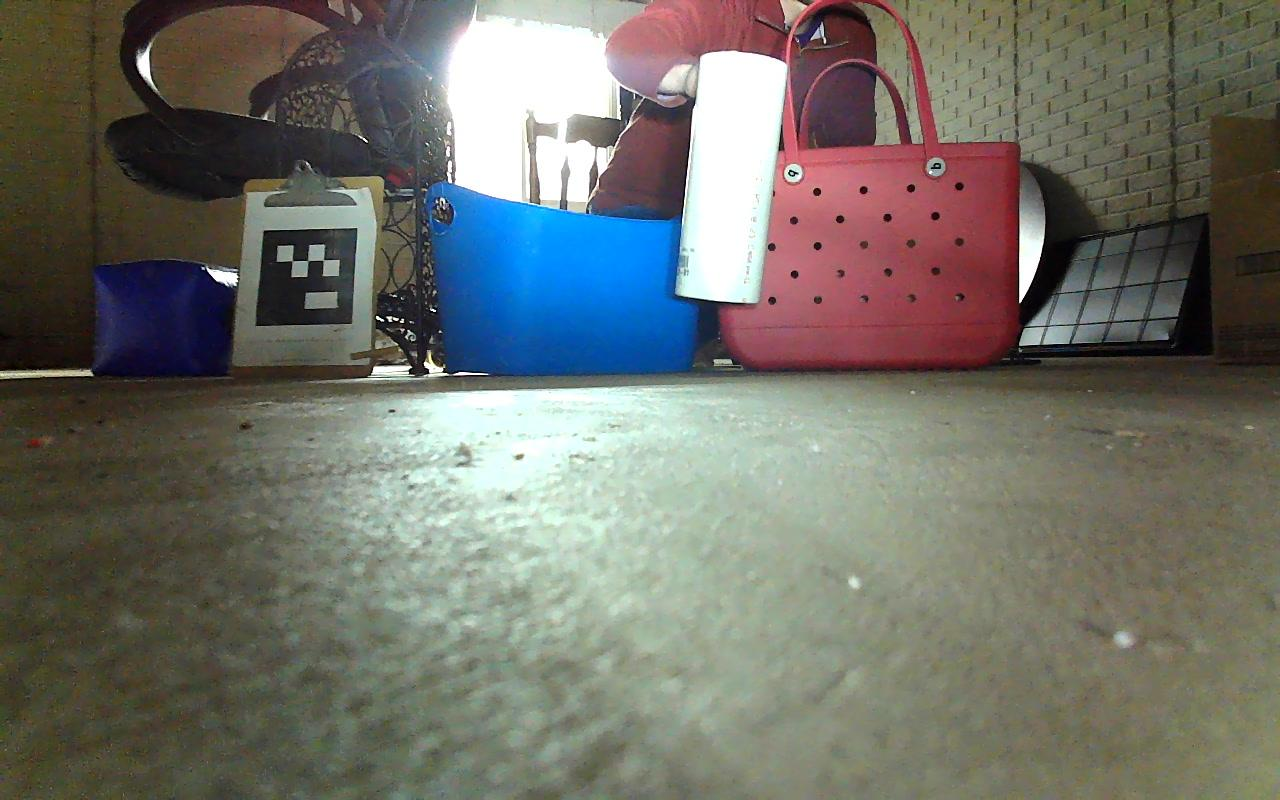coral: (672, 52, 791, 305)
